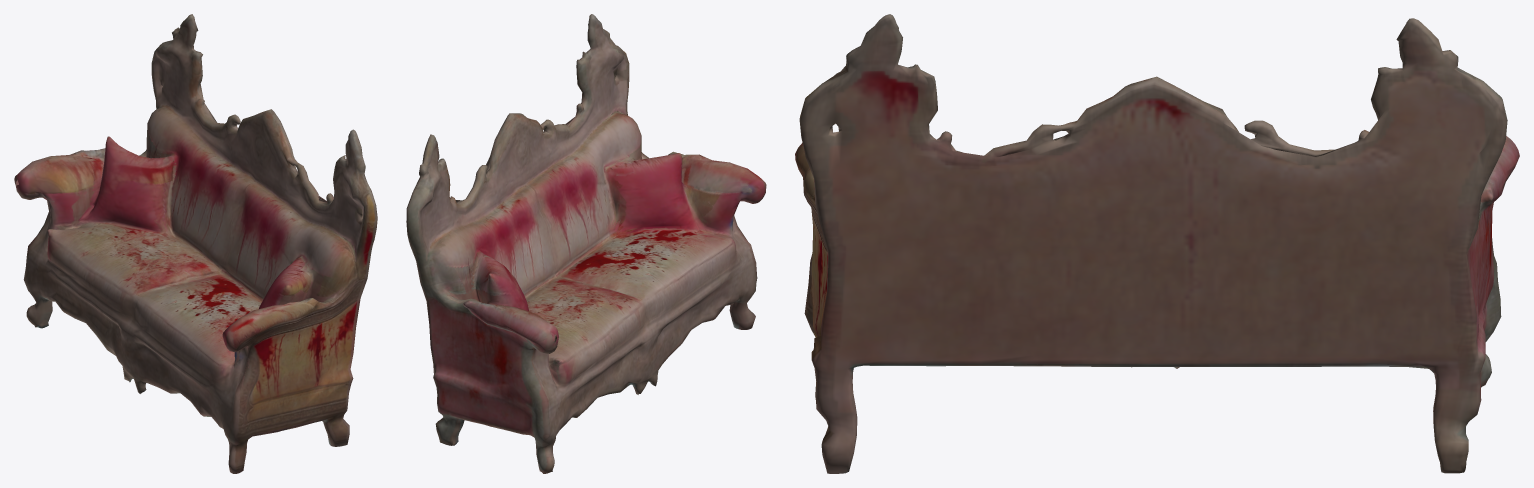
Rendered from creepy_old_balkan_so_0124154039_stylize.fbx.
3 renders of one model, left to right at view 1: azimuth 30°, elevation 25°; view 2: azimuth 150°, elevation 25°; view 3: azimuth 270°, elevation 25°, orthographic. The views are drawn at different scales.
Visible parts, largest first — view 1: Mesh_0.030; view 2: Mesh_0.030; view 3: Mesh_0.030.
Part boxes in pixels (left/top/right/bottom): Mesh_0.030: left=14, top=14, right=377, bottom=473; Mesh_0.030: left=406, top=14, right=766, bottom=473; Mesh_0.030: left=795, top=14, right=1519, bottom=473.
Size of the model in its own units: 543 by 1000 by 1371.
1 material, 1 textured.
